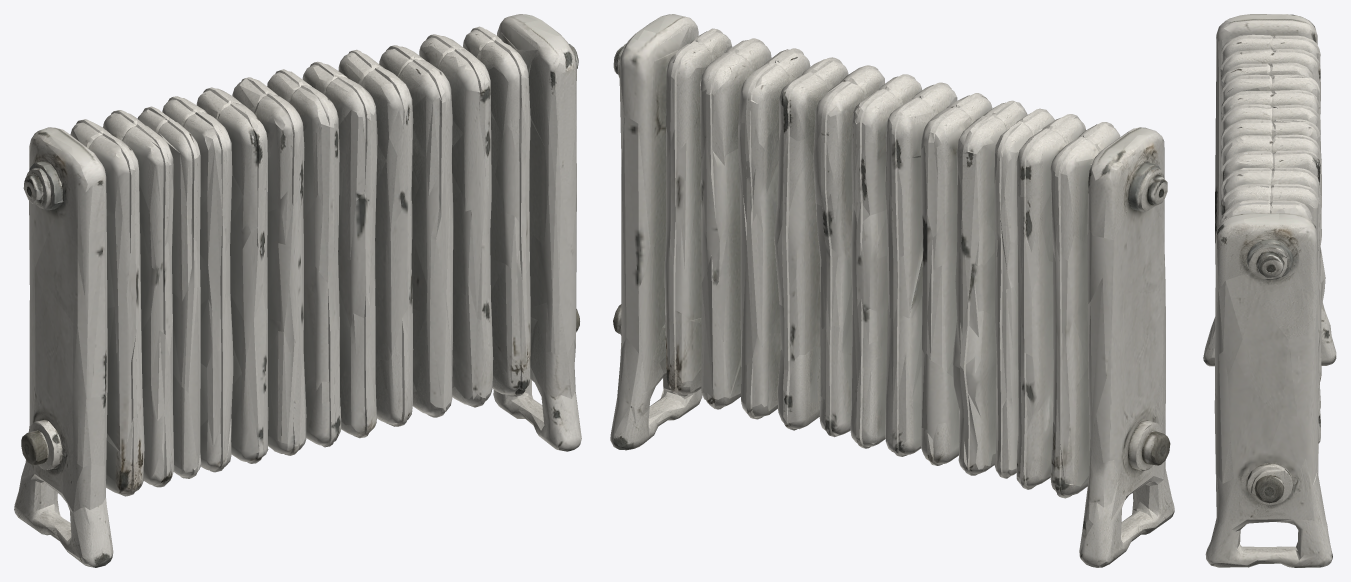
Rendered from termosifone.glb.
The picture shows the model from 3 angles, left to right: view 1: azimuth 30°, elevation 25°; view 2: azimuth 150°, elevation 25°; view 3: azimuth 270°, elevation 25°; orthographic projection. The views are drawn at different scales.
Visible parts, largest first — view 1: Mesh_0; view 2: Mesh_0; view 3: Mesh_0.
Part boxes in pixels (x1,y1,x2,y2): Mesh_0: (14,14,581,567); Mesh_0: (610,14,1174,567); Mesh_0: (1203,14,1336,567).
Bounding box in the file's own units: 1.9 × 1.34 × 0.4623.
Materials: 1 (1 with a texture image).
